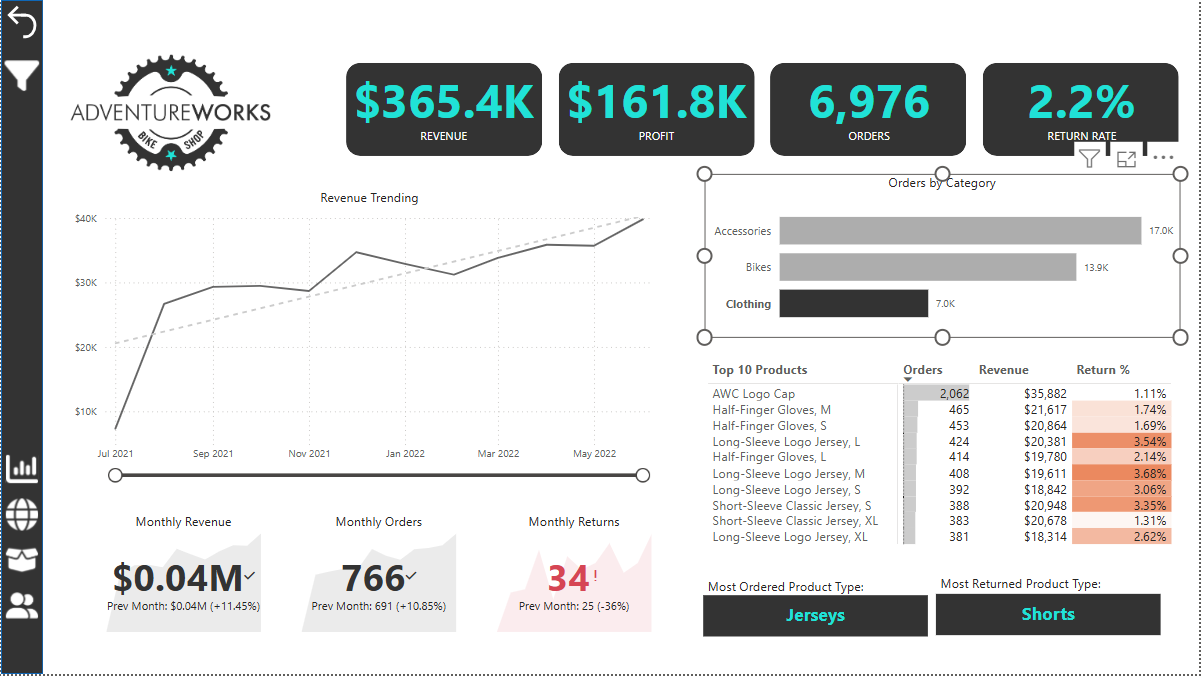

What the dashboard file says about the page in this screenshot:
{"tool":"powerbi","page":{"name":"Exec Dashboard","canvas":[1280,720],"ordinal":0},"visuals":[{"type":"shape","title":"Left Nav Background","box":[0,0,45,719.9],"z":0},{"type":"card","fields":{"Values":["Measure Table.Total Revenue"]},"box":[350,58.6,245.3,107.4],"z":0,"group":"g2"},{"type":"group","id":"g1","title":"KPI Backgrounds","box":[368.9,67.6,889.2,99.4],"z":0,"group":"g3"},{"type":"shape","box":[1048.6,67.6,209.5,99.4],"z":0,"group":"g1"},{"type":"actionButton","box":[1.3,527.9,62.3,42.4],"z":0,"group":"g4"},{"type":"image","title":"AW Logo","box":[45.1,35.8,271.8,169.7],"z":1000},{"type":"group","id":"g2","title":"KPI Values","box":[350,58.6,927.2,107.4],"z":1000,"group":"g3"},{"type":"card","fields":{"Values":["Measure Table.Return Rate"]},"box":[1031.4,58.6,245.7,107.1],"z":1000,"group":"g2"},{"type":"shape","box":[822.1,67.6,209.5,99.4],"z":1000,"group":"g1"},{"type":"actionButton","box":[1.3,576.5,62.3,42.4],"z":1000,"group":"g4"},{"type":"group","id":"g3","title":"KPIs","box":[350,58.6,927.2,108.4],"z":2000},{"type":"card","fields":{"Values":["Measure Table.Total Profit"]},"box":[576.8,58.6,245.7,107.1],"z":2000,"group":"g2"},{"type":"shape","box":[595.5,67.6,209.5,99.4],"z":2000,"group":"g1"},{"type":"actionButton","box":[1.3,625.1,62.3,42.4],"z":2000,"group":"g4"},{"type":"card","fields":{"Values":["Measure Table.Total Orders"]},"box":[804.1,58.6,245.7,107.1],"z":3000,"group":"g2"},{"type":"shape","box":[368.9,67.6,209.5,99.4],"z":3000,"group":"g1"},{"type":"lineChart","title":"Revenue Trending","fields":{"Y":["Measure Table.Total Revenue"],"Category":["Calendar Lookup.Year","Calendar Lookup.Start of Quarter.Variation.Date Hierarchy.Quarter","Calendar Lookup.Start of Quarter.Variation.Date Hierarchy.Month","Calendar Lookup.Date Hierarchy.Start of Month"]},"box":[72.9,201.4,641.4,317.1],"z":3000},{"type":"actionButton","box":[1.3,479.3,62.3,42.4],"z":3000,"group":"g4"},{"type":"kpi","title":"Monthly Revenue","fields":{"Indicator":["Measure Table.Total Revenue"],"TrendLine":["Calendar Lookup.Start of Month"],"Goal":["Measure Table.Previous Month Revenue"]},"box":[107.1,547.1,175.7,132.9],"z":4000},{"type":"kpi","title":"Monthly Orders","fields":{"TrendLine":["Calendar Lookup.Start of Month"],"Indicator":["Measure Table.Total Orders"],"Goal":["Measure Table.Previous Month Orders"]},"box":[315.7,547.1,175.7,132.9],"z":5000},{"type":"kpi","title":"Monthly Returns","fields":{"TrendLine":["Calendar Lookup.Start of Month"],"Indicator":["Measure Table.Total Returns"],"Goal":["Measure Table.Previous Month Returns"]},"box":[524.3,547.1,175.7,132.9],"z":6000},{"type":"clusteredBarChart","title":"Orders by Category","fields":{"Category":["Product Categories Lookup.CategoryName"],"Y":["Measure Table.Total Orders"]},"box":[751.7,185.6,507.7,175],"z":7000},{"type":"pivotTable","fields":{"Rows":["Product Lookup.ProductName"],"Values":["Measure Table.Total Orders","Measure Table.Total Revenue","Measure Table.Return Rate"]},"box":[750.3,380.5,507.7,216.1],"z":8000},{"type":"card","fields":{"Values":["Min(Product Subcategories Lookup.SubcategoryName)"]},"box":[750.3,636.3,240,43.7],"z":9000},{"type":"textbox","box":[750.3,611.1,222.7,50.4],"z":10000},{"type":"card","fields":{"Values":["Min(Product Subcategories Lookup.SubcategoryName)"]},"box":[998.2,634.4,240,43.7],"z":11000},{"type":"textbox","box":[998.3,608.5,222.7,50.4],"z":12000},{"type":"actionButton","box":[0,0,45.7,47.1],"z":13000},{"type":"group","id":"g4","title":"Navigation Buttons","box":[1.3,479.3,62.3,188.2],"z":14000},{"type":"actionButton","box":[0,58.3,45.1,45.1],"z":15000}]}

Visuals, with their boxes on the page's 1280x720 design canvas (x1, y1, x2, y2). These are canvas units, not pixel positions in the 1204x678 screenshot, which may show the page scaled, cropped or inside an application window:
"Left Nav Background" shape: select_region(0, 0, 45, 720)
card - Measure Table.Total Revenue: select_region(350, 59, 595, 166)
"KPI Backgrounds" group: select_region(369, 68, 1258, 167)
shape: select_region(1049, 68, 1258, 167)
actionButton: select_region(1, 528, 64, 570)
"AW Logo" image: select_region(45, 36, 317, 206)
"KPI Values" group: select_region(350, 59, 1277, 166)
card - Measure Table.Return Rate: select_region(1031, 59, 1277, 166)
shape: select_region(822, 68, 1032, 167)
actionButton: select_region(1, 576, 64, 619)
"KPIs" group: select_region(350, 59, 1277, 167)
card - Measure Table.Total Profit: select_region(577, 59, 822, 166)
shape: select_region(596, 68, 805, 167)
actionButton: select_region(1, 625, 64, 668)
card - Measure Table.Total Orders: select_region(804, 59, 1050, 166)
shape: select_region(369, 68, 578, 167)
"Revenue Trending" lineChart: select_region(73, 201, 714, 518)
actionButton: select_region(1, 479, 64, 522)
"Monthly Revenue" kpi: select_region(107, 547, 283, 680)
"Monthly Orders" kpi: select_region(316, 547, 491, 680)
"Monthly Returns" kpi: select_region(524, 547, 700, 680)
"Orders by Category" clusteredBarChart: select_region(752, 186, 1259, 361)
pivotTable - Product Lookup.ProductName x Measure Table.Total Orders: select_region(750, 380, 1258, 597)
card - Min(Product Subcategories Lookup.SubcategoryName): select_region(750, 636, 990, 680)
textbox: select_region(750, 611, 973, 662)
card - Min(Product Subcategories Lookup.SubcategoryName): select_region(998, 634, 1238, 678)
textbox: select_region(998, 608, 1221, 659)
actionButton: select_region(0, 0, 46, 47)
"Navigation Buttons" group: select_region(1, 479, 64, 668)
actionButton: select_region(0, 58, 45, 103)
